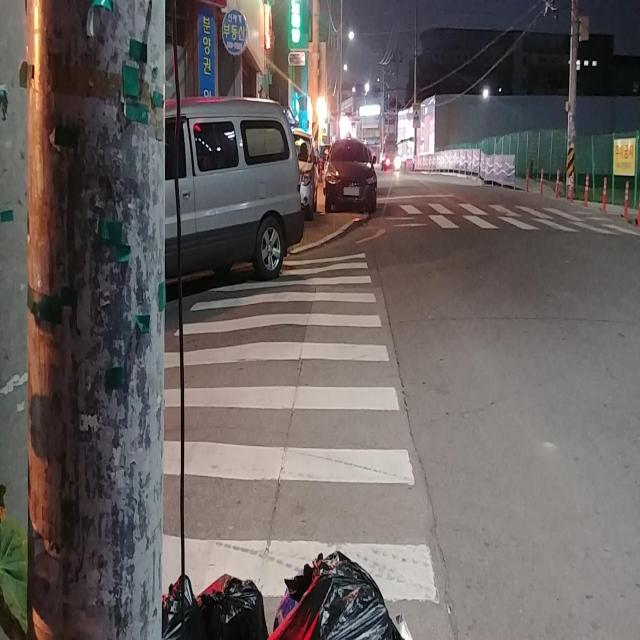횡단보도: (161, 249, 440, 607), (410, 196, 640, 231)
